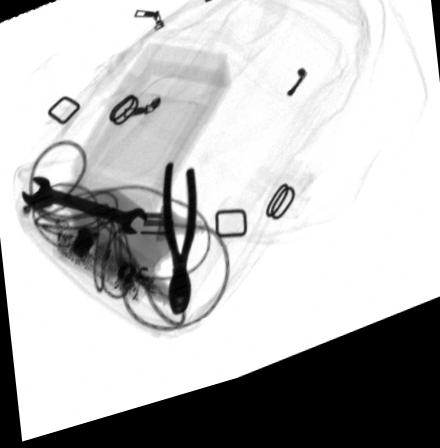Pliers: (161, 172, 198, 327)
Wrench: (21, 178, 149, 243)
